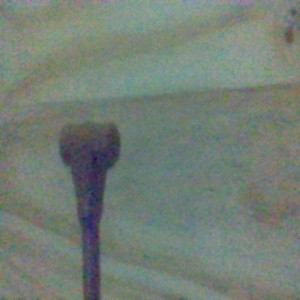palu: (59, 122, 121, 300)
